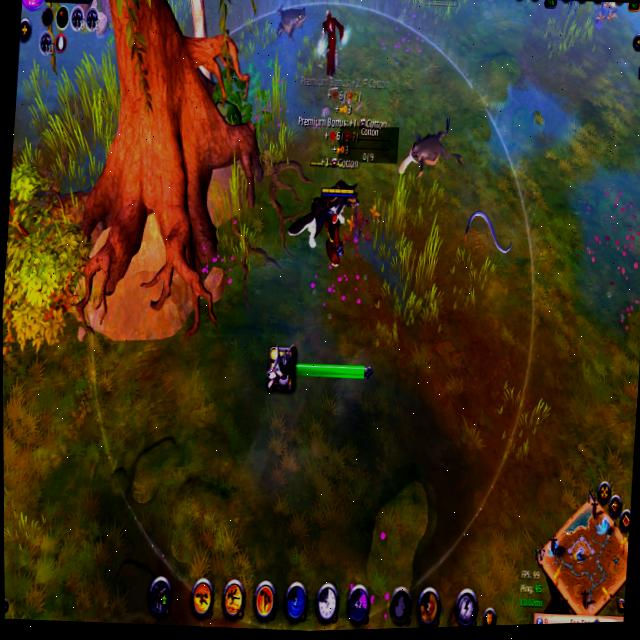hide: (588, 0, 624, 45)
ore: (307, 3, 354, 88), (269, 0, 310, 45)
red: (313, 180, 358, 279), (419, 0, 457, 11)
wisp caged: (167, 0, 226, 105)
